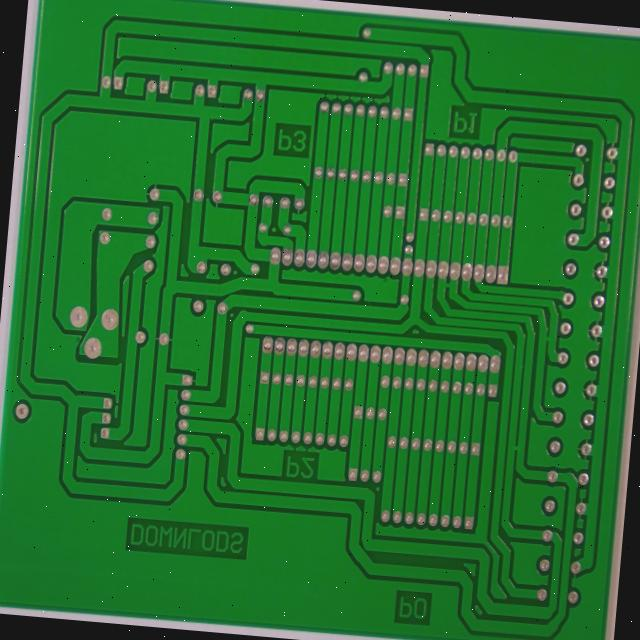short: (489, 480, 514, 517), (525, 361, 547, 392), (416, 300, 439, 329)
